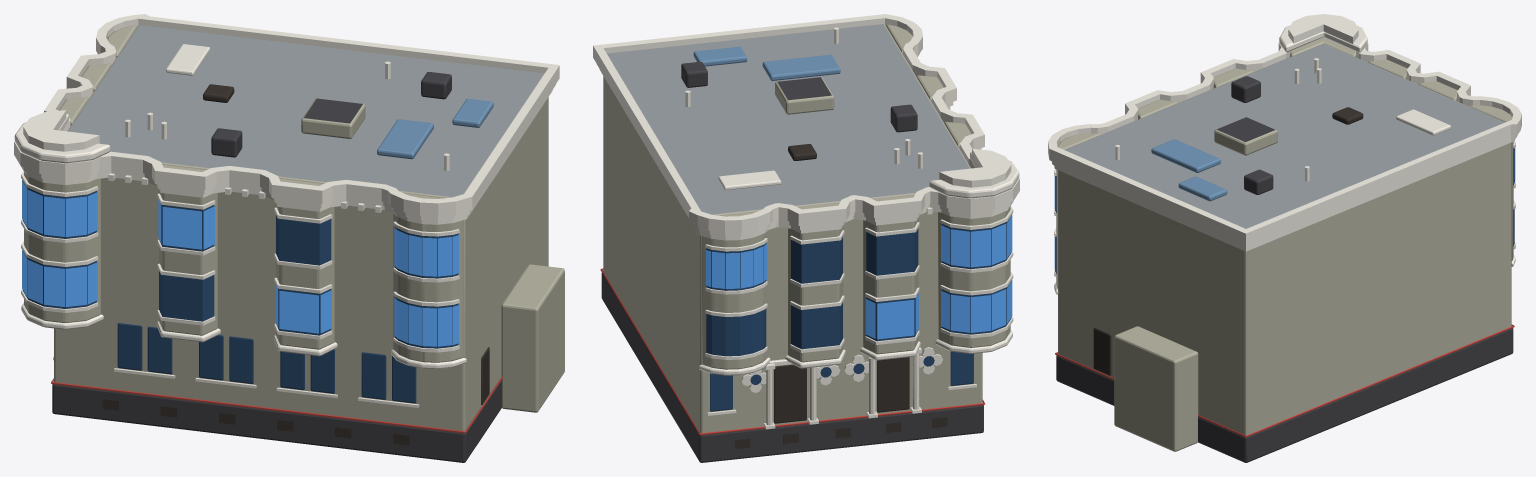
The model's file is 49-south-park.optimized.glb.
The picture shows the model from 3 angles, left to right: view 1: azimuth 30°, elevation 25°; view 2: azimuth 150°, elevation 25°; view 3: azimuth 270°, elevation 25°; orthographic projection. The views are drawn at different scales.
Parts seen in each view (by area): view 1: body, grp_Toy_trim, grp_Toy_sage, grp_Toy_glass, grp_Toy_glass_Glow, grp_Toy_roofd, grp_Toy_glassl, roof_bulkhead, grp_Toy_ink, water_table; view 2: body, grp_Toy_trim, grp_Toy_glass, grp_Toy_sage, grp_Toy_roofd, grp_Toy_glass_Glow, grp_Toy_ink, grp_Toy_glassl, roof_bulkhead, water_table; view 3: body, grp_Toy_trim, grp_Toy_sage, grp_Toy_roofd, grp_Toy_glassl, roof_bulkhead, grp_Toy_ink, water_table.
Part boxes in pixels (x1,y1,x2,y2): body: (54,25,548,431); grp_Toy_trim: (14,14,559,407); grp_Toy_sage: (24,25,564,412); grp_Toy_glass: (22,181,458,403); grp_Toy_glass_Glow: (22,180,458,346); grp_Toy_roofd: (52,72,501,462); grp_Toy_glassl: (377,98,493,159); roof_bulkhead: (301,98,365,138); grp_Toy_ink: (102,84,489,445); water_table: (51,377,502,433); body: (603,24,982,433); grp_Toy_trim: (593,14,1019,429); grp_Toy_glass: (706,215,1011,411); grp_Toy_sage: (702,24,1010,369); grp_Toy_roofd: (601,61,983,462); grp_Toy_glass_Glow: (706,214,1012,339); grp_Toy_ink: (735,144,947,449); grp_Toy_glassl: (693,46,840,80); roof_bulkhead: (775,77,834,114); water_table: (600,268,985,435); body: (1058,43,1511,435); grp_Toy_trim: (1048,14,1521,294); grp_Toy_sage: (1056,37,1513,451); grp_Toy_roofd: (1056,76,1513,462); grp_Toy_glassl: (1151,139,1227,201); roof_bulkhead: (1214,117,1277,155); grp_Toy_ink: (1093,107,1363,375); water_table: (1055,324,1514,437).
Size of the model in its own units: 23.63 by 13 by 22.56.
